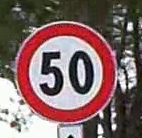limite 50: (13, 18, 117, 125)
